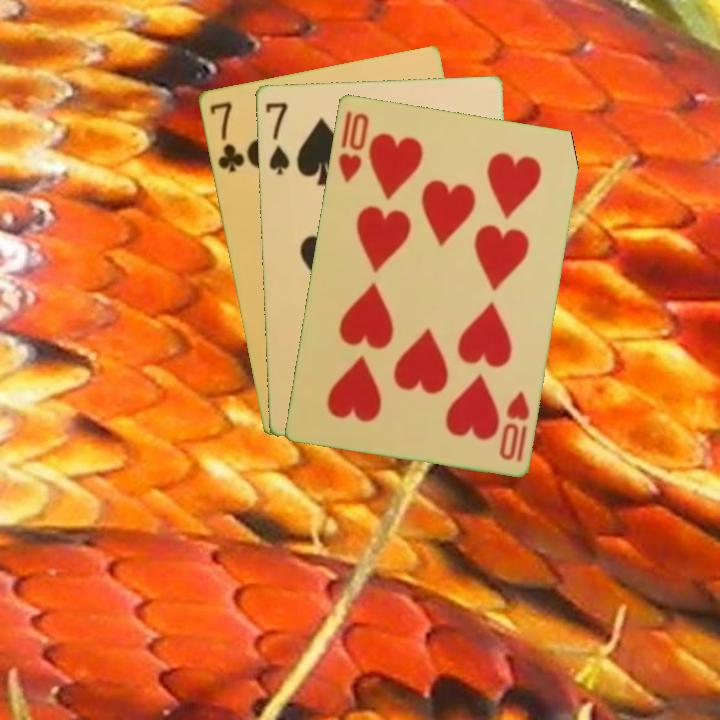10h: (334, 107, 372, 185), (495, 387, 532, 464)
7c: (205, 97, 247, 175)
7s: (261, 98, 292, 177)
